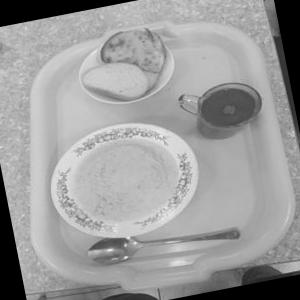bread: (73, 44, 156, 115)
cheese_sandwich: (92, 17, 183, 92)
coffee: (178, 72, 278, 162)
porridge: (41, 115, 193, 245)
